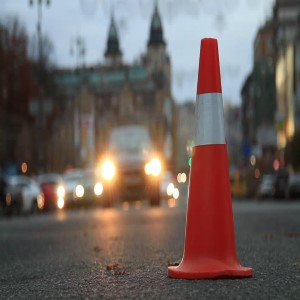traffic cone: (167, 38, 253, 280)
